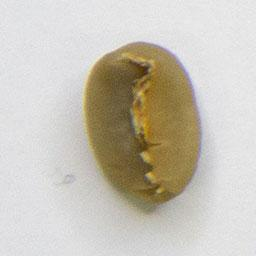premium: (80, 38, 207, 204)
